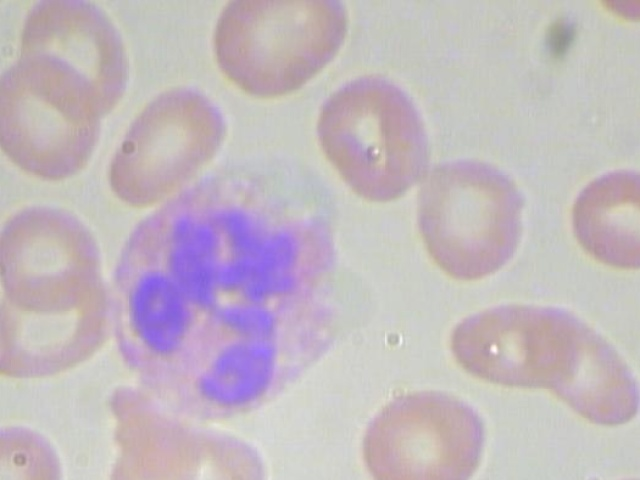RBC: (391, 149, 539, 292), (98, 74, 231, 210), (311, 63, 434, 205), (203, 0, 356, 104), (9, 0, 142, 116), (0, 47, 110, 183), (432, 293, 576, 394), (353, 384, 495, 480), (0, 198, 111, 316), (560, 152, 640, 275), (0, 414, 63, 480)
WBC: (91, 152, 364, 422)
